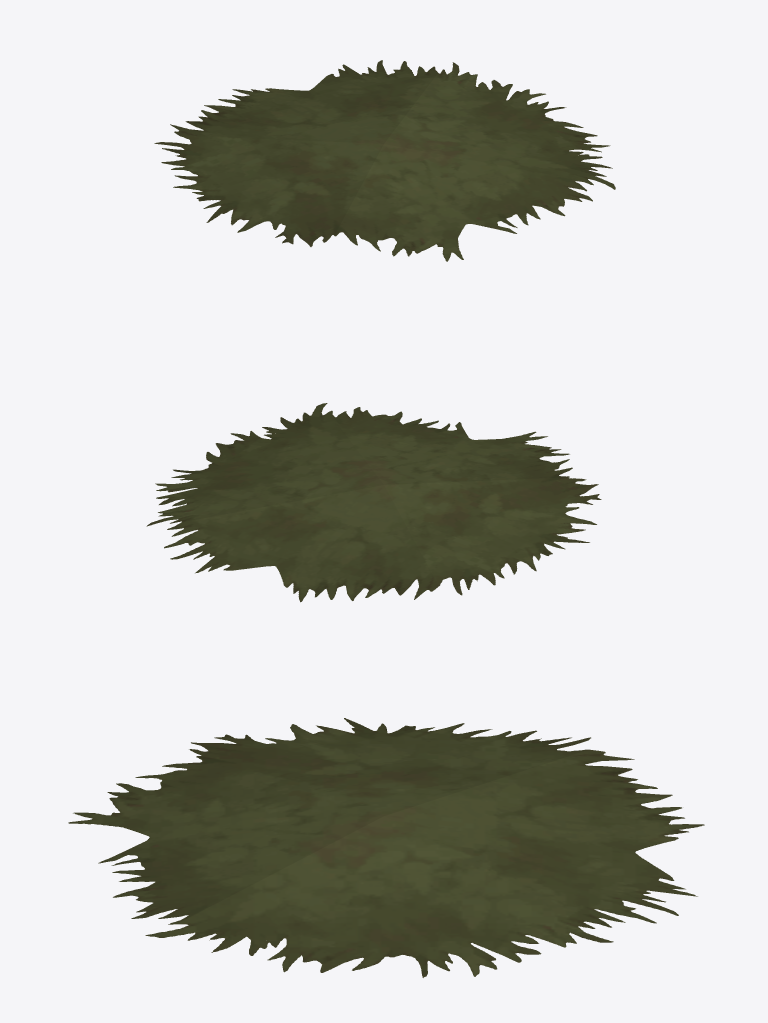
The model's file is yw_shanlinxiaolu_grass_001.FBX.
3 renders of one model, top to bottom at view 1: azimuth 30°, elevation 25°; view 2: azimuth 150°, elevation 25°; view 3: azimuth 270°, elevation 25°, orthographic. The views are drawn at different scales.
Parts seen in each view (by area): view 1: yw_shanlinxiaolu_grass_001; view 2: yw_shanlinxiaolu_grass_001; view 3: yw_shanlinxiaolu_grass_001.
Boxes of the visible parts, box(x1,y1,x2,y2) form: yw_shanlinxiaolu_grass_001: box(154, 60, 615, 261); yw_shanlinxiaolu_grass_001: box(146, 403, 601, 602); yw_shanlinxiaolu_grass_001: box(68, 718, 704, 977).
Size of the model in its own units: 124 by 124 by 6.71.
